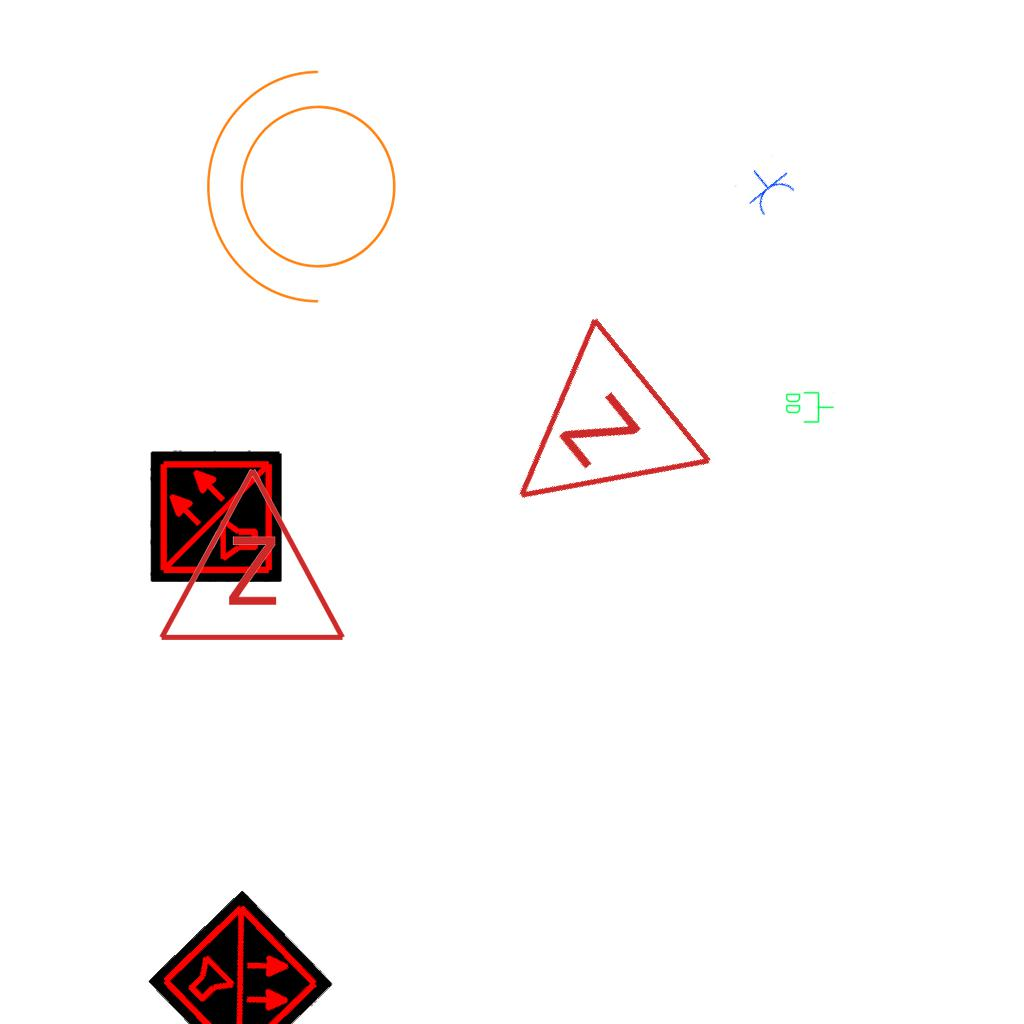Datenanschluss_zweifach: (784, 390, 835, 424)
OKW_Multisensormelder_(Kombination_optischer_Rauch-Kahlenmonoxid_Waerme-Melder): (147, 889, 335, 1024), (150, 450, 282, 582)
Scheinwerfer_fuer_Alarmbeleuchtung: (196, 61, 421, 325)
Schukosteckdose_einfach: (734, 155, 800, 220)
Zimmersignalleuchte: (449, 304, 729, 584), (152, 455, 348, 655)
